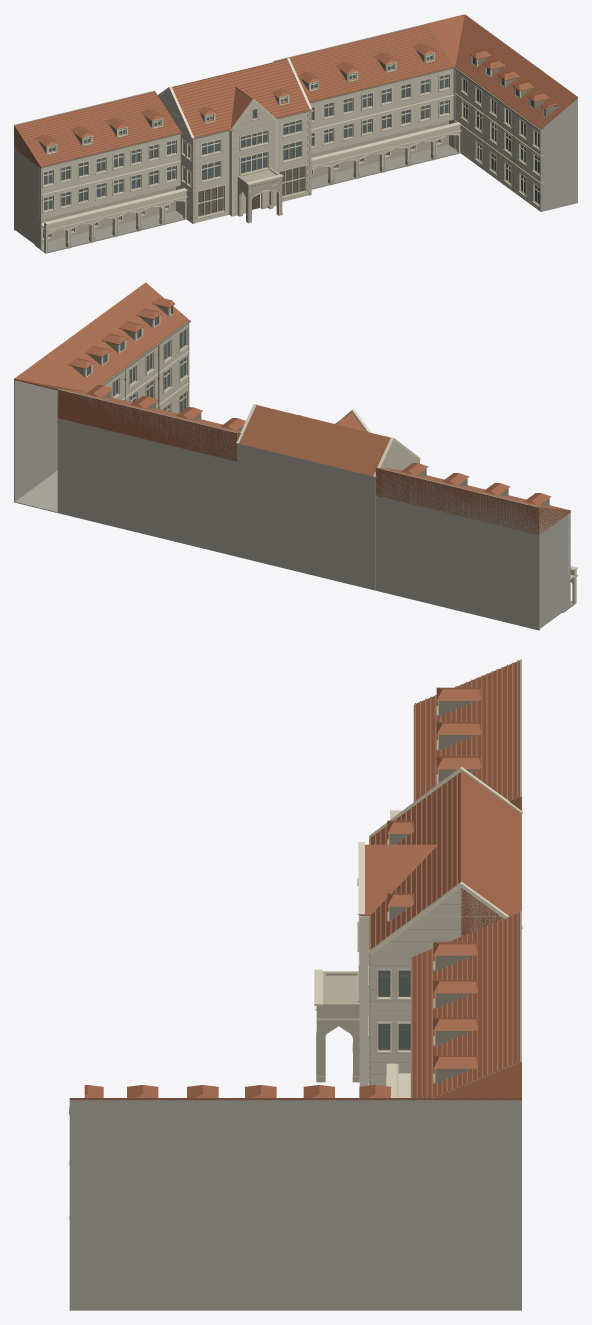
The model's file is full-source.glb.
The picture shows the model from 3 angles, top to bottom: view 1: azimuth 30°, elevation 25°; view 2: azimuth 150°, elevation 25°; view 3: azimuth 270°, elevation 25°; orthographic projection. The views are drawn at different scales.
Visible parts, largest first — view 1: 中西女中东楼（五一楼）院落立面; view 2: 中西女中东楼（五一楼）院落立面; view 3: 中西女中东楼（五一楼）院落立面.
Boxes of the visible parts, box(x1,y1,x2,y2) form: 中西女中东楼（五一楼）院落立面: box(14, 14, 577, 253); 中西女中东楼（五一楼）院落立面: box(14, 282, 577, 630); 中西女中东楼（五一楼）院落立面: box(69, 659, 522, 1310).
Size of the model in its own units: 77.08 by 19.61 by 33.6.
